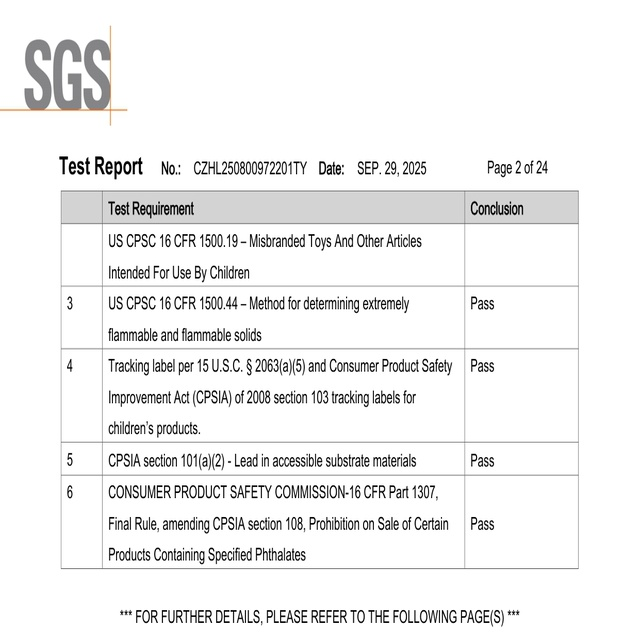sgs: (24, 39, 112, 110)
